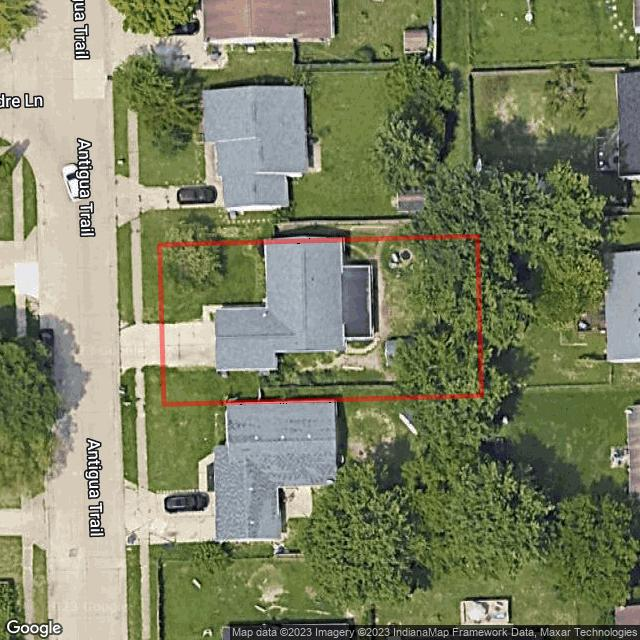Driveway: (165, 305, 222, 368)
Extra Driveway: (120, 318, 160, 375)
Extra Lawn: (141, 242, 159, 324), (117, 242, 134, 324), (144, 366, 161, 406), (120, 367, 136, 406)
Extra Sidewalk: (132, 242, 142, 324), (135, 366, 145, 407)
House: (215, 242, 373, 371)
Other: (384, 339, 414, 366), (389, 249, 414, 268)
Sidewalk: (346, 256, 383, 355)
